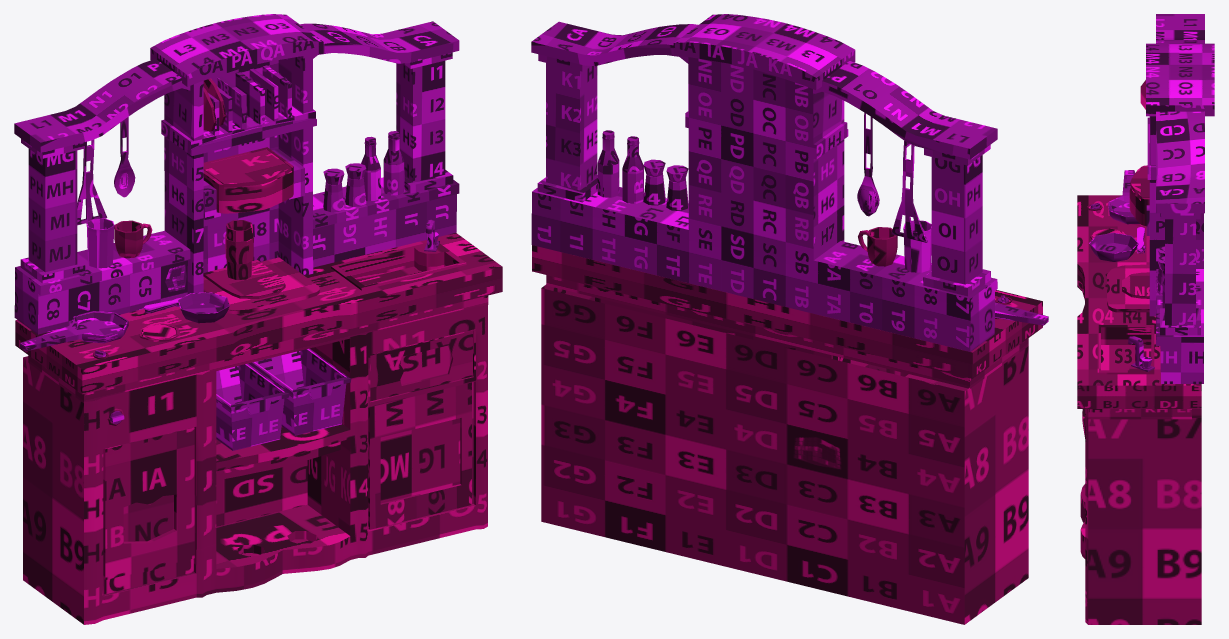
The model's file is ToyModel002.fbx.
3 renders of one model, left to right at view 1: azimuth 30°, elevation 25°; view 2: azimuth 150°, elevation 25°; view 3: azimuth 270°, elevation 25°, orthographic. The views are drawn at different scales.
Parts seen in each view (by area): view 1: White_Low, lightPink_Low, darkPink_Low, Oven_Door_Low, Fridge_Door_Low, Basket1_Low, Basket2_Low, Microwave_Door_Low, Coffee_Maker_Base_Low, Pan_Low, Coffee_Maker_Top_Low, Thermos_Low (+9 smaller); view 2: lightPink_Low, White_Low, darkPink_Low, Spatula_Low, Sauce2_Low, Sauce1_Low, Cup1_Low, Laddle_Low, Mug_Base_Low, PepperShaker_Low1, SaltShaker_Low, Pan_Low; view 3: lightPink_Low, White_Low, darkPink_Low, Bowl1_Low, Pan_Low, Coffee_Maker_Base_Low, Coffee_Maker_Top_Low, Faucet_Low, PepperShaker_Low1.
Boxes of the visible parts, box(x1,y1,x2,y2) form: White_Low: box(14, 14, 459, 334); lightPink_Low: box(23, 304, 487, 624); darkPink_Low: box(15, 233, 502, 402); Oven_Door_Low: box(103, 427, 194, 594); Fridge_Door_Low: box(368, 382, 471, 529); Basket1_Low: box(248, 348, 351, 435); Basket2_Low: box(216, 363, 289, 450); Microwave_Door_Low: box(370, 331, 472, 401); Coffee_Maker_Base_Low: box(203, 147, 293, 213); Pan_Low: box(20, 311, 128, 351); Coffee_Maker_Top_Low: box(203, 149, 291, 187); Thermos_Low: box(225, 220, 253, 279); lightPink_Low: box(541, 284, 1028, 624); White_Low: box(531, 14, 997, 351); darkPink_Low: box(532, 245, 1042, 388); Spatula_Low: box(891, 141, 927, 242); Sauce2_Low: box(597, 130, 619, 197); Sauce1_Low: box(622, 136, 643, 203); Cup1_Low: box(903, 220, 931, 272); Laddle_Low: box(857, 112, 879, 216); Mug_Base_Low: box(867, 227, 897, 266); PepperShaker_Low1: box(643, 159, 665, 205); SaltShaker_Low: box(666, 165, 688, 210); Pan_Low: box(995, 302, 1048, 325); lightPink_Low: box(1080, 409, 1201, 624); White_Low: box(1146, 14, 1214, 383); darkPink_Low: box(1077, 195, 1201, 419); Bowl1_Low: box(1089, 232, 1138, 261); Pan_Low: box(1108, 170, 1139, 224); Coffee_Maker_Base_Low: box(1129, 165, 1149, 225); Coffee_Maker_Top_Low: box(1130, 166, 1149, 199); Faucet_Low: box(1128, 336, 1154, 371); PepperShaker_Low1: box(1157, 256, 1164, 295).
Bounding box in the file's own units: 10.05 × 10.69 × 2.85.
2 materials, 2 textured.
